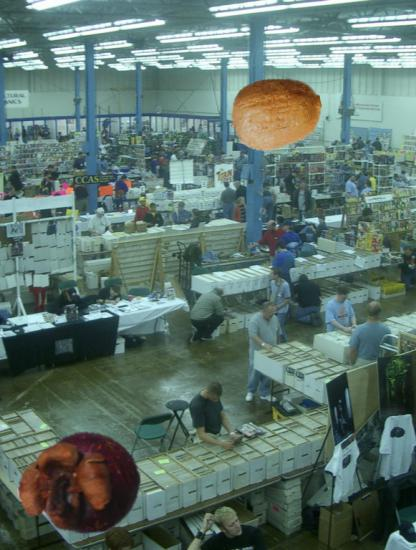Kiwi: (228, 65, 322, 159)
Mangostan: (17, 421, 142, 546)
